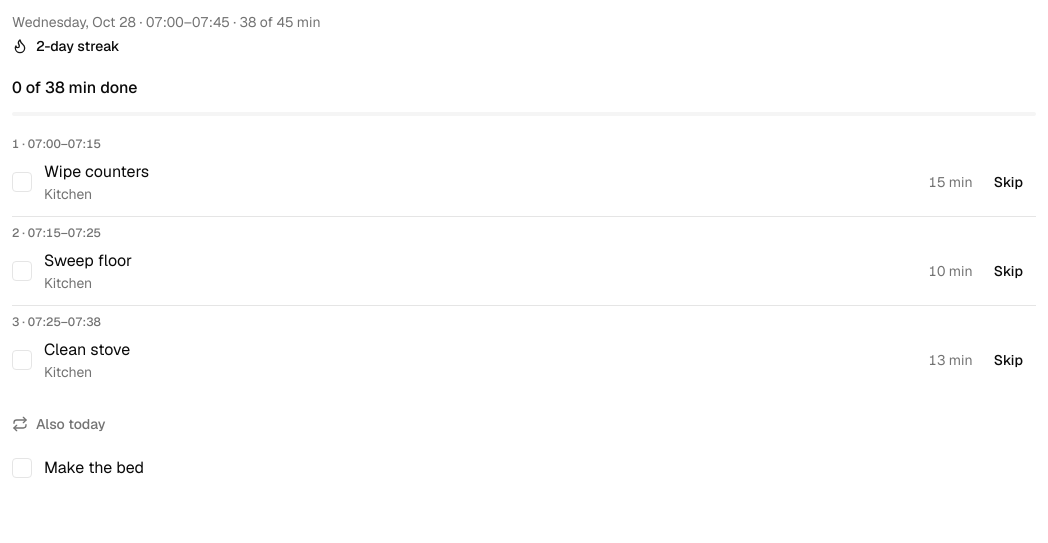
Scenario: TodaySession › AC2: checking a task updates the progress at once and saves it
Click the checkbox named "Wipe counters" next to "Wipe counters": (22, 182) left=12, top=172, right=32, bottom=192
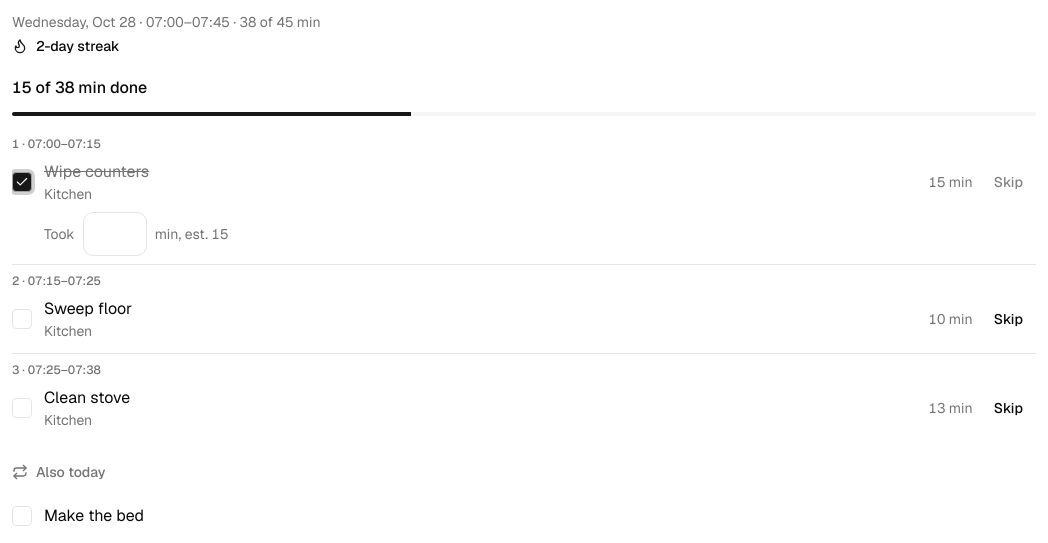
Check: the text "15 of 38 min done" is shown, box left=12, top=77, right=147, bottom=98
Click the checkbox named "Wipe counters" next to "Wipe counters": (22, 182) left=12, top=172, right=32, bottom=192
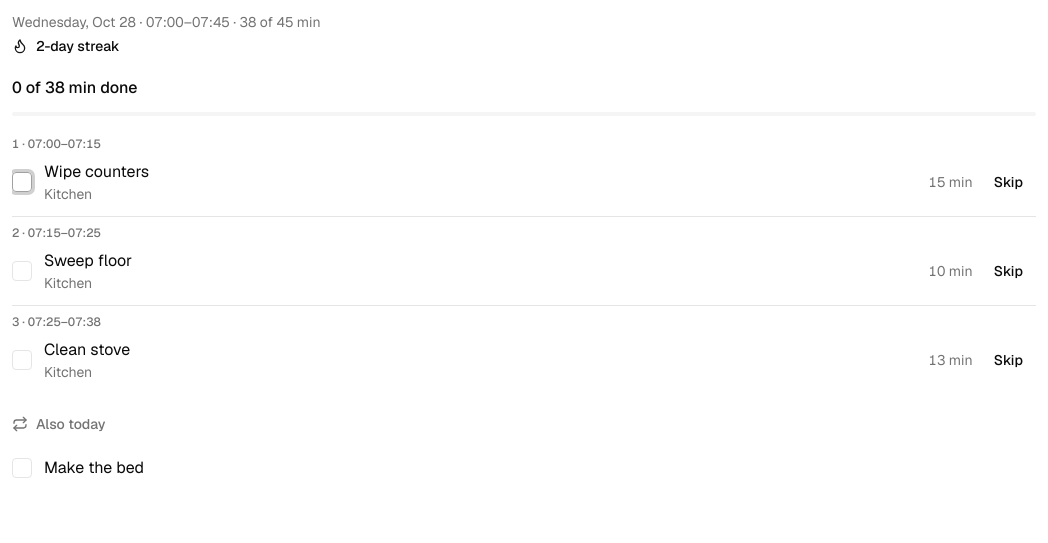
Check: the text "0 of 38 min done" is shown, box left=12, top=77, right=138, bottom=98
